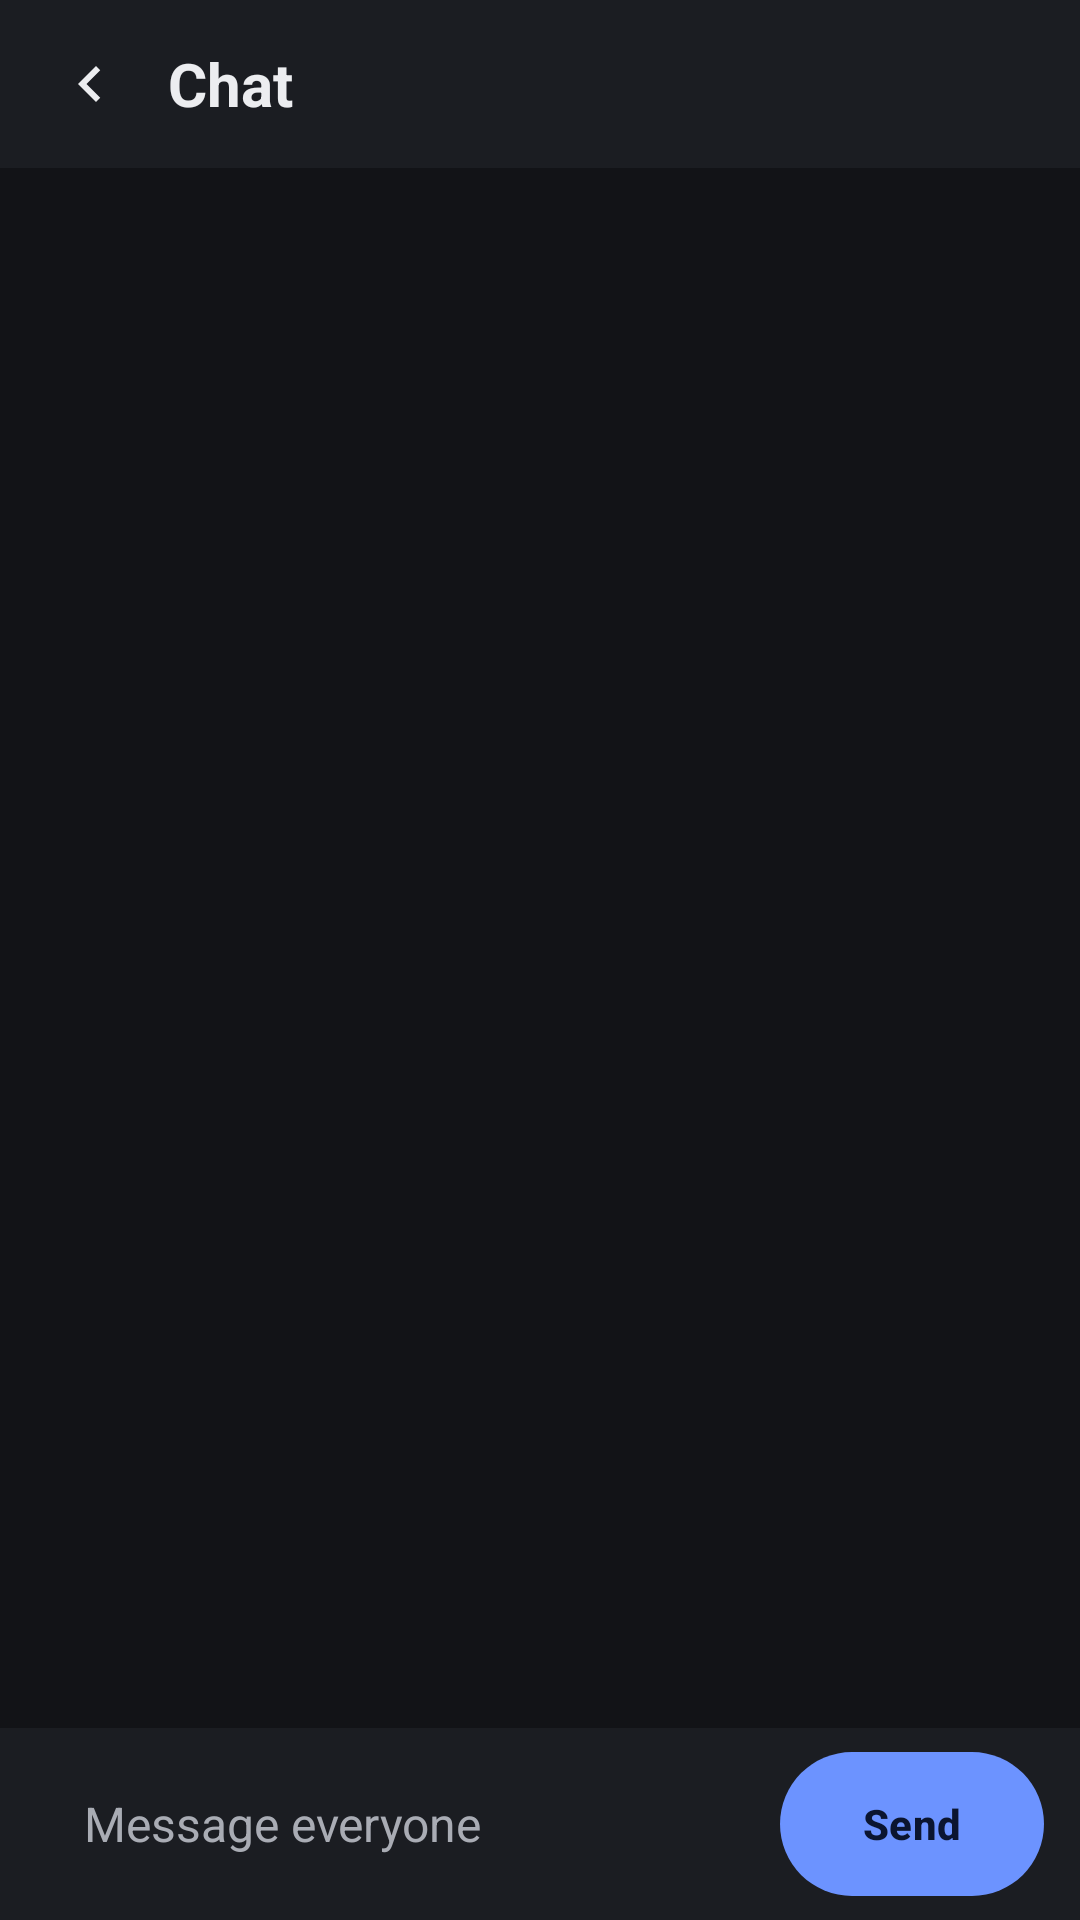

Icon click points for this 1080*1920 phone screenshot, format [x,y]:
Back: [89,84]
